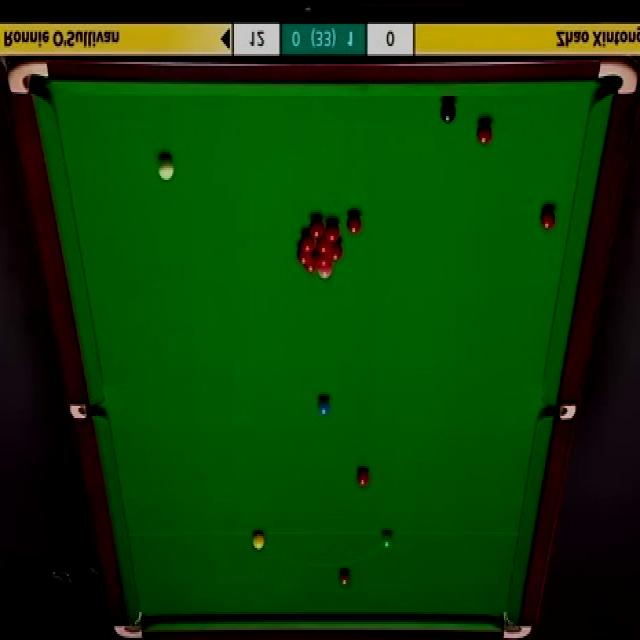black-ball: (440, 98, 457, 124)
blue-ball: (316, 394, 331, 418)
brown-ball: (338, 566, 351, 586)
green-ball: (379, 528, 395, 549)
pink-ball: (318, 268, 332, 279)
red-ball: (476, 120, 494, 145), (355, 466, 371, 489), (540, 207, 556, 230), (324, 220, 339, 242), (347, 212, 362, 233), (310, 216, 324, 238), (301, 231, 314, 252), (297, 248, 313, 265), (304, 253, 318, 271), (329, 242, 342, 260), (316, 253, 328, 269), (318, 239, 331, 253)
white-ball: (158, 156, 173, 180)
yellow-ball: (252, 530, 265, 550)
